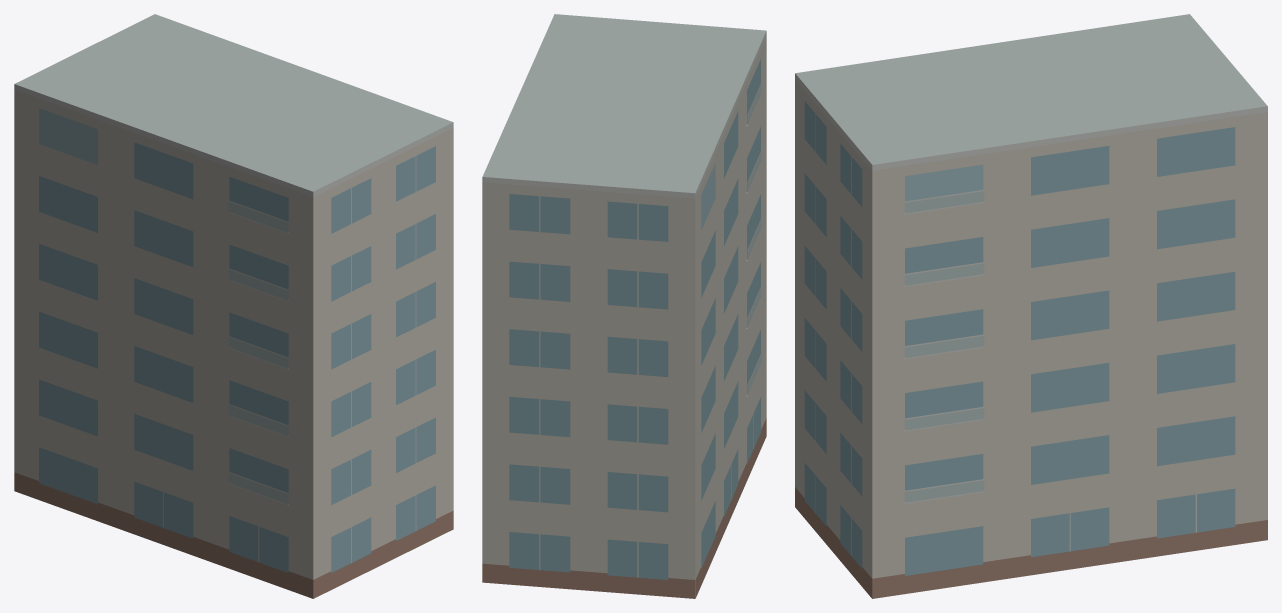
Rendered from survey-upis-32706932.glb.
3 views of the same model, side by side, from view 1: azimuth 30°, elevation 25°; view 2: azimuth 150°, elevation 25°; view 3: azimuth 270°, elevation 25° (orthographic). The views are drawn at different scales.
Parts seen in each view (by area): view 1: survey-upis-32706932.tmp; view 2: survey-upis-32706932.tmp; view 3: survey-upis-32706932.tmp.
Boxes of the visible parts, box(x1,y1,x2,y2) form: survey-upis-32706932.tmp: box(14, 14, 453, 598); survey-upis-32706932.tmp: box(482, 14, 766, 598); survey-upis-32706932.tmp: box(795, 14, 1267, 598).
Size of the model in its own units: 13.67 by 18.3 by 18.08.
